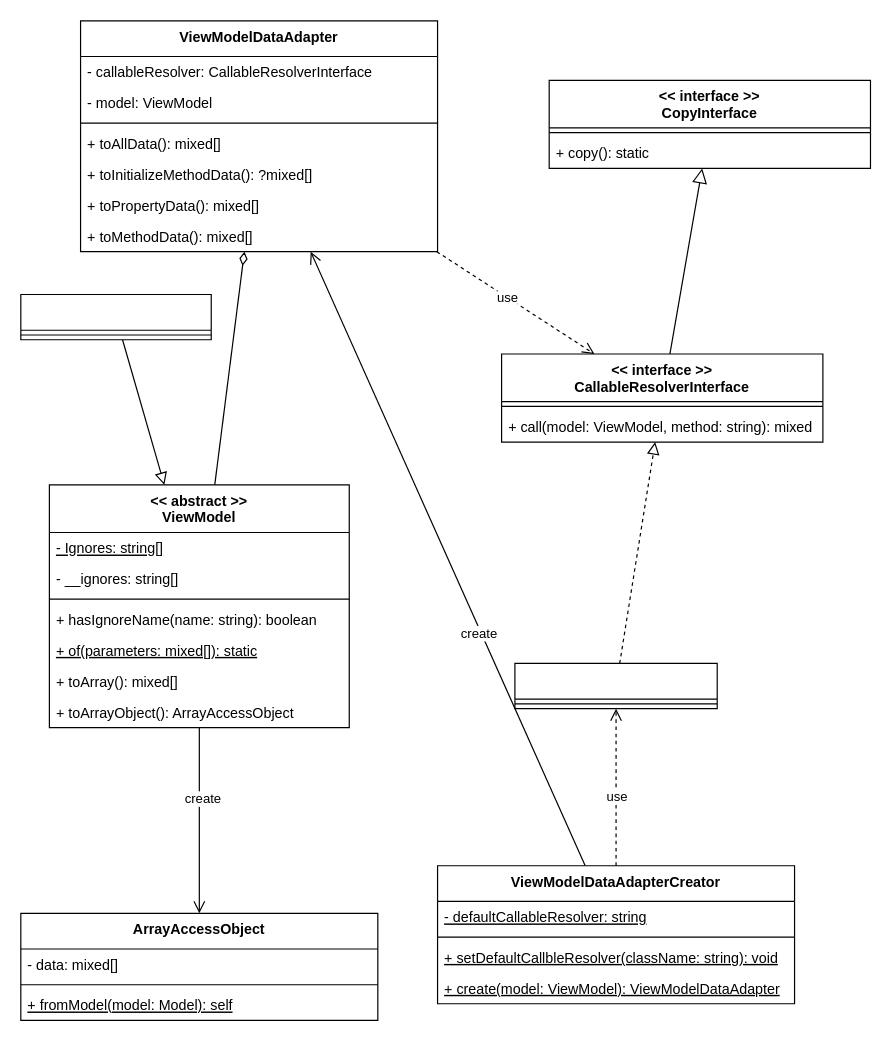
Some shapes in this 891 by 1045 pixel diagram are drawn without their labels. The centre of each missing label's shape, as x and y in pixels:
"AnyViewModel" goes at (115,316).
"SimpleCallableResolver" goes at (615,685).
